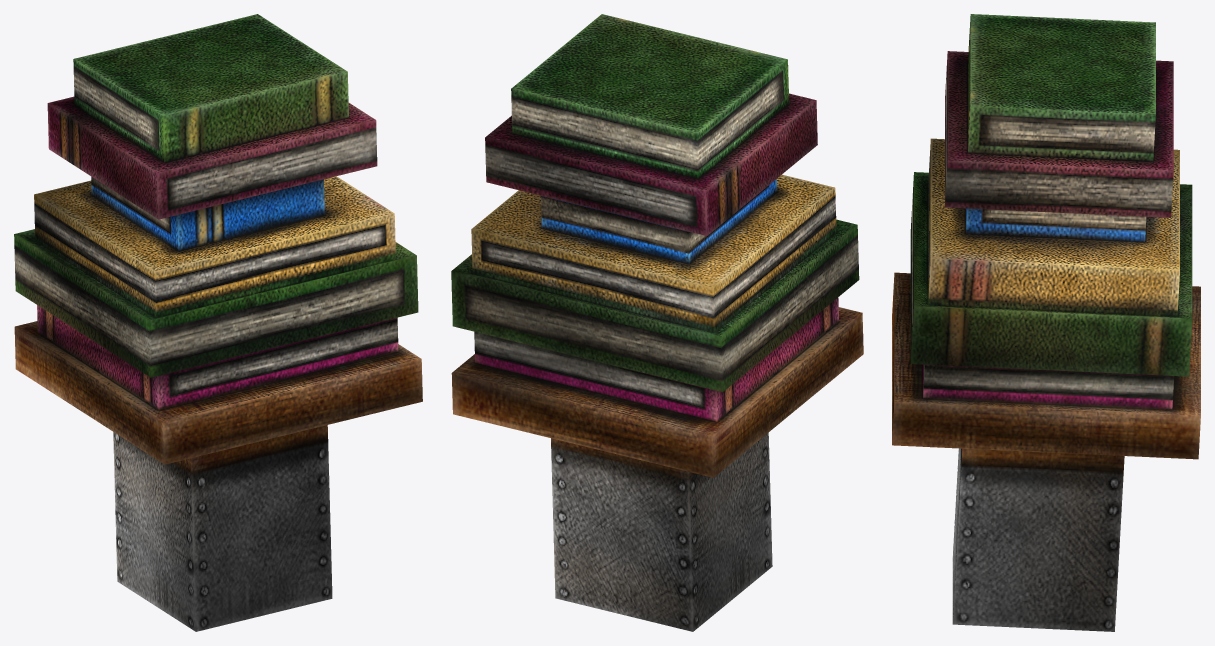
The model's file is HEAD_CHIBI_BOOKS.fbx.
3 views of the same model, side by side, from view 1: azimuth 30°, elevation 25°; view 2: azimuth 150°, elevation 25°; view 3: azimuth 270°, elevation 25° (orthographic). The views are drawn at different scales.
Visible parts, largest first — view 1: head_Books; view 2: head_Books; view 3: head_Books.
Part boxes in pixels (box(x1,y1,x2,y2)): head_Books: box(14, 14, 422, 631); head_Books: box(451, 14, 863, 631); head_Books: box(892, 14, 1200, 631).
Size of the model in its own units: 0.0254 by 0.0473 by 0.0246.
